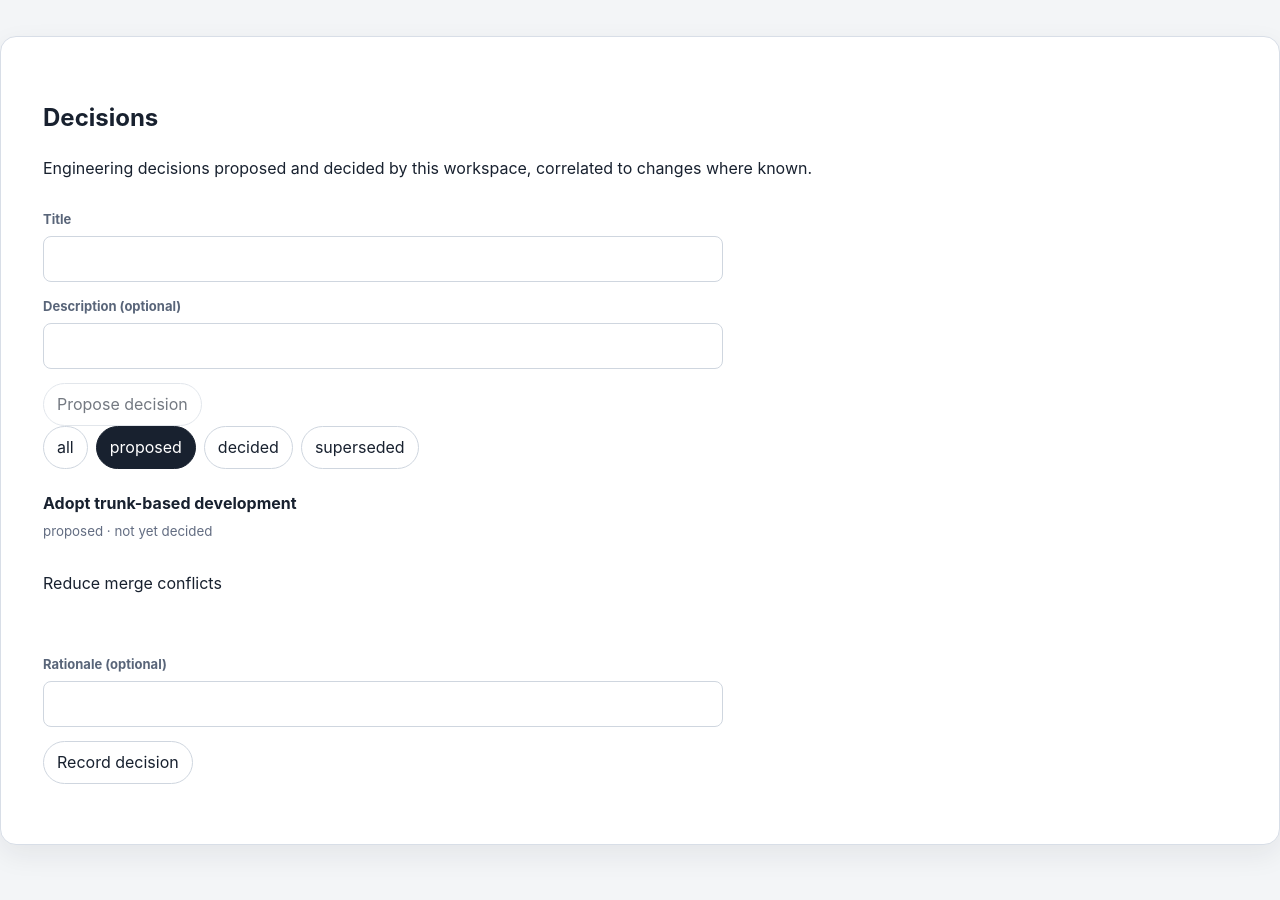
Test: DecisionsPanel › maps DECIDED_AT_BEFORE_CREATED_AT to a readable sentence, never the raw code
Expected: the text "Adopt trunk-based development" is shown, [43, 493, 297, 513]
Click the button "Record decision" at (118,763), box [43, 742, 193, 784]
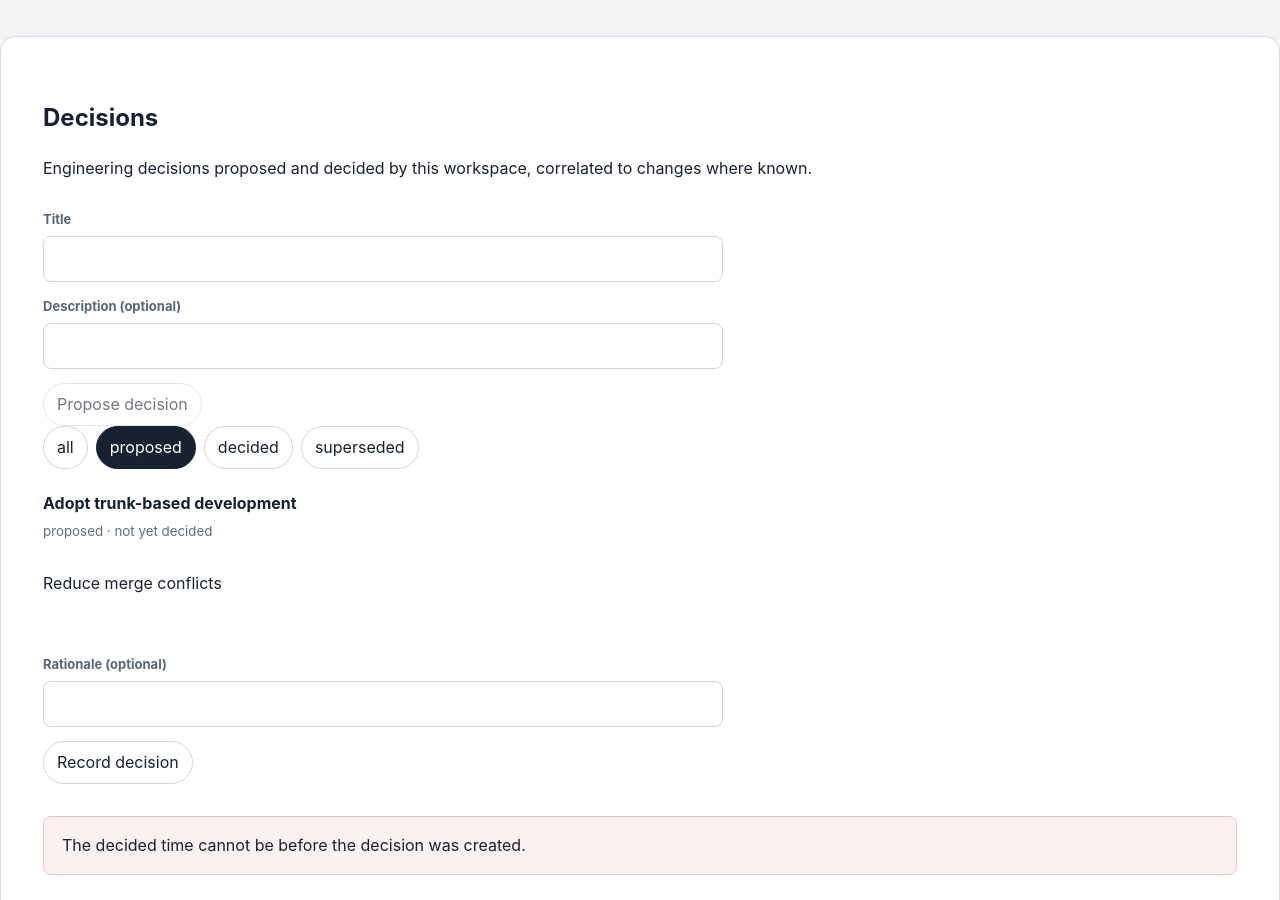
Expected: the text "The decided time cannot be before the decision was created." is shown, [43, 816, 1237, 875]
